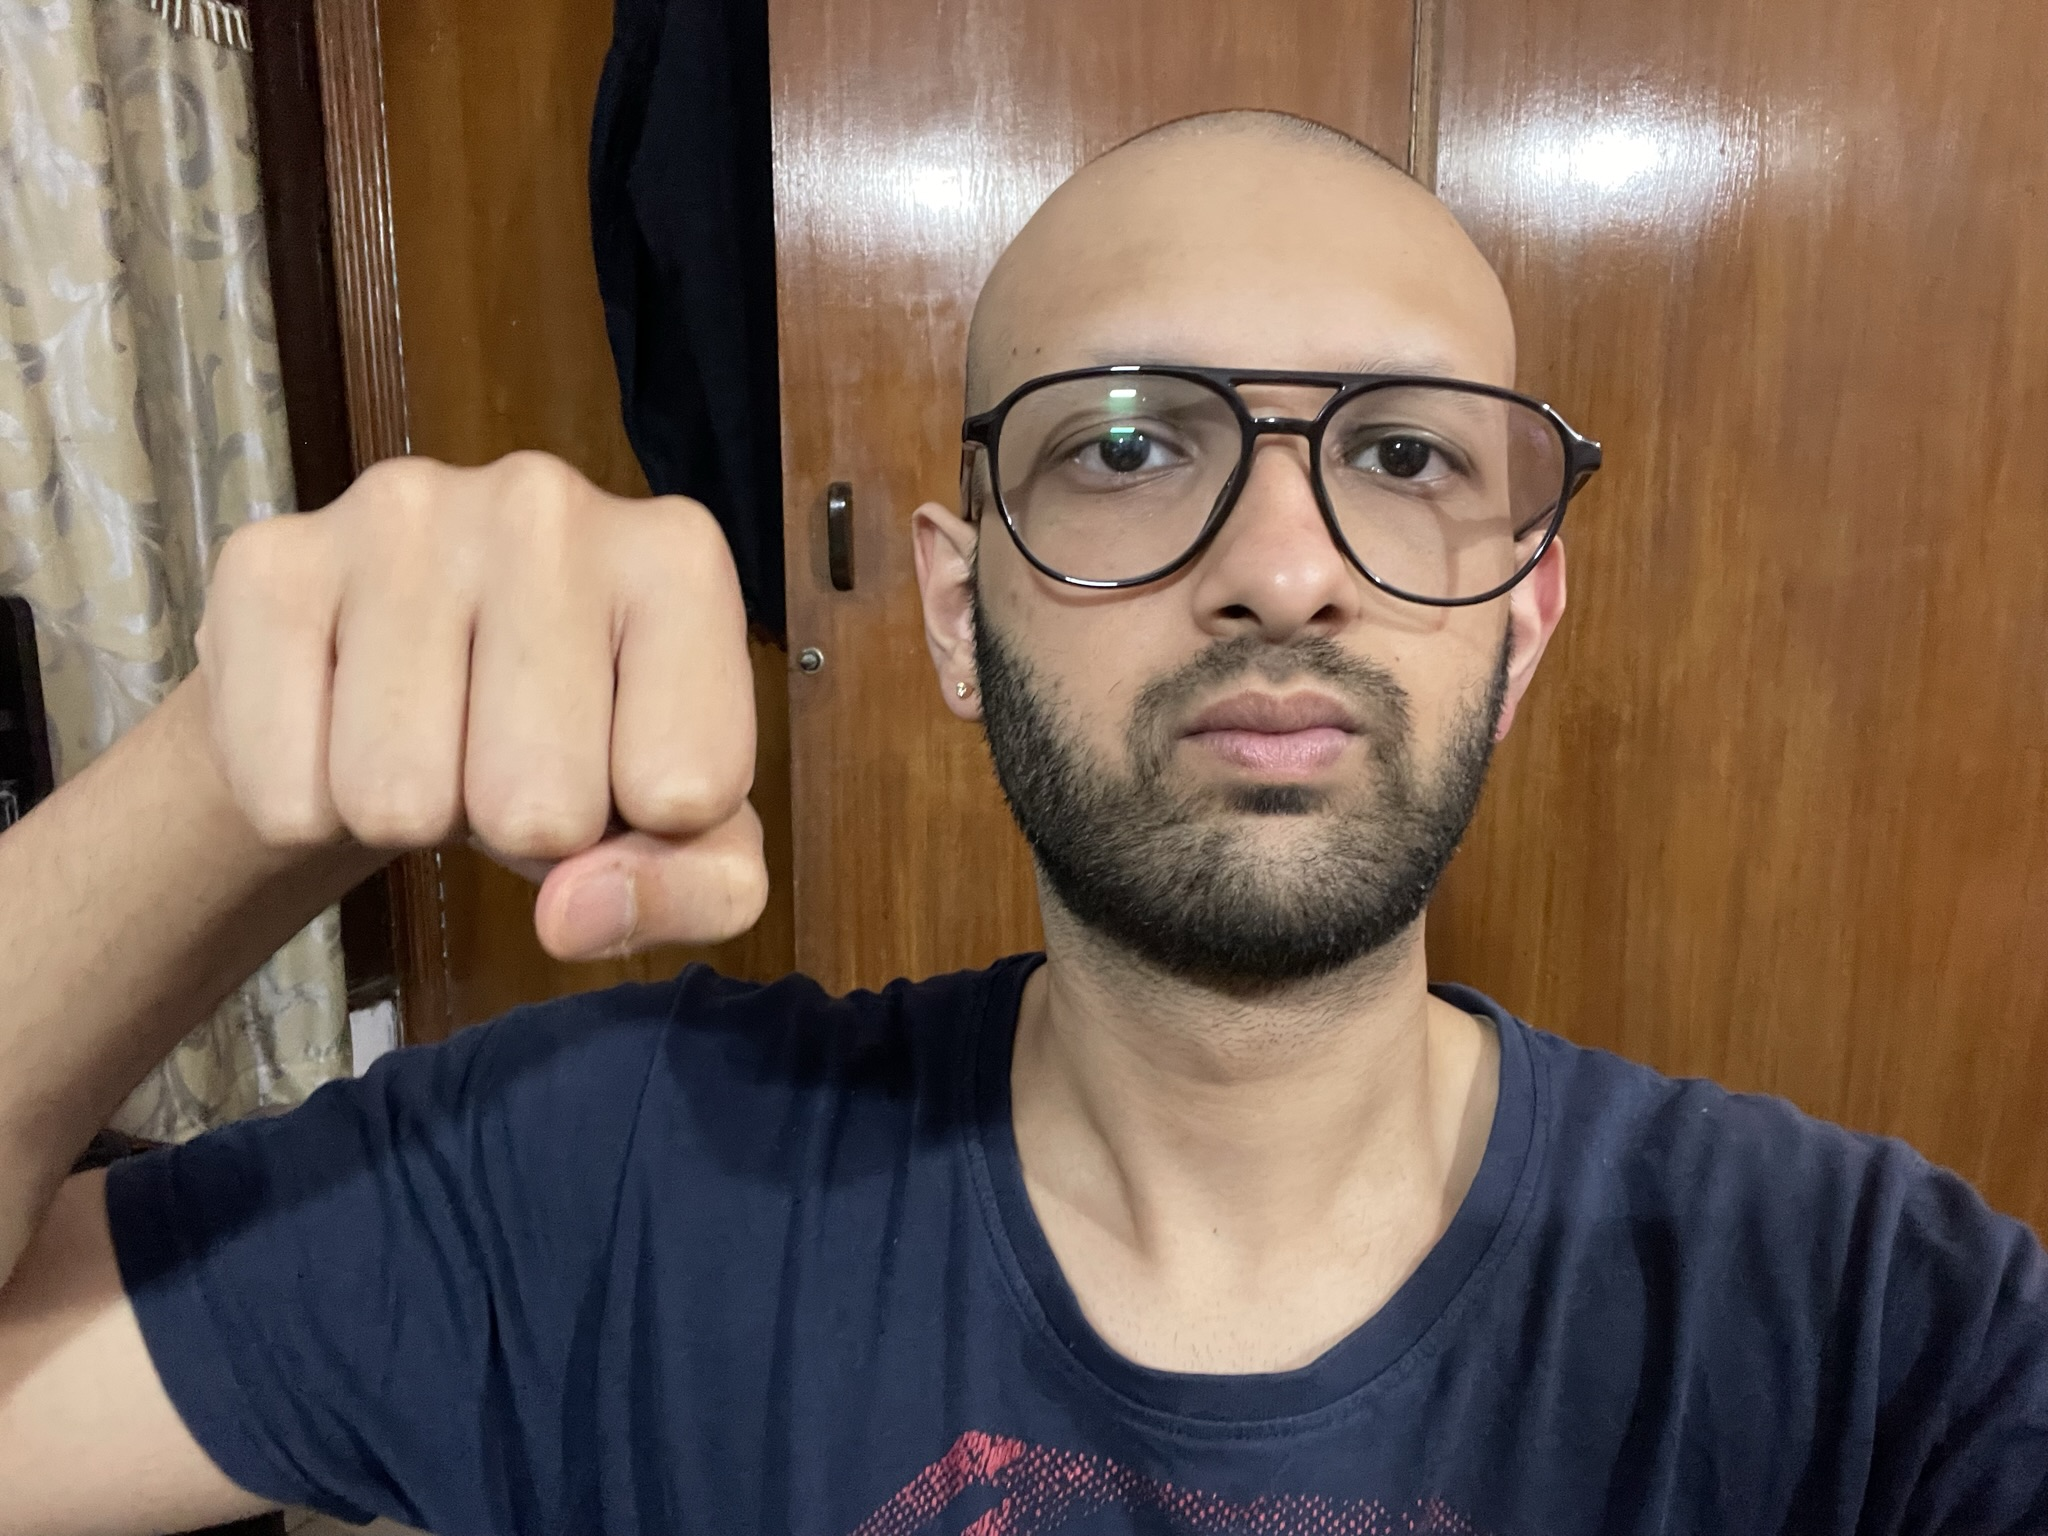Yes: (197, 442, 784, 970)
